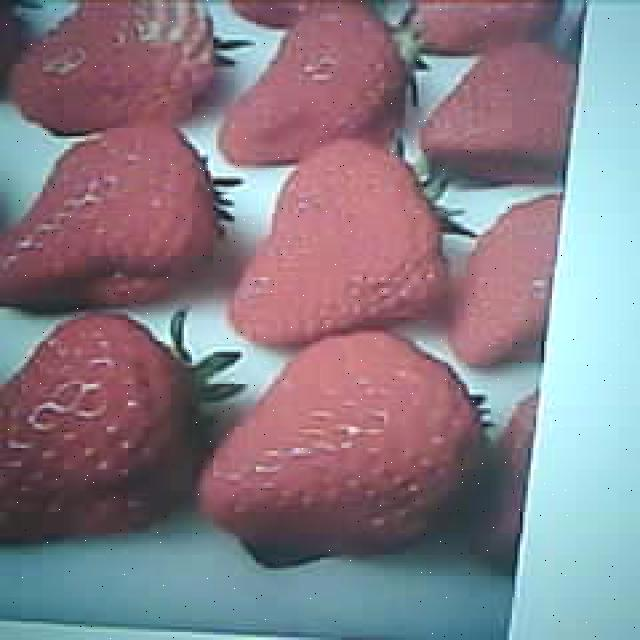ripe: (204, 330, 480, 550), (0, 307, 194, 544), (227, 140, 443, 342), (1, 120, 210, 310)
